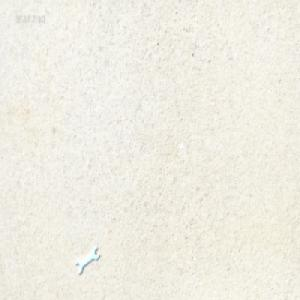Wrench: (75, 246, 100, 274)
